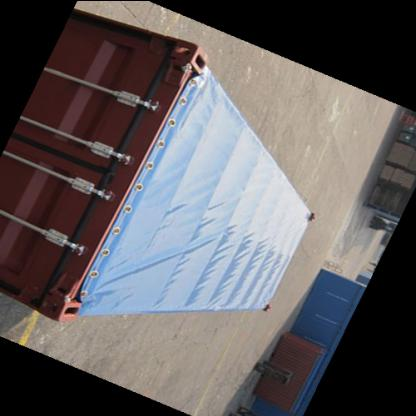Damage: (13, 272, 78, 315), (156, 42, 194, 90), (95, 156, 125, 186)
